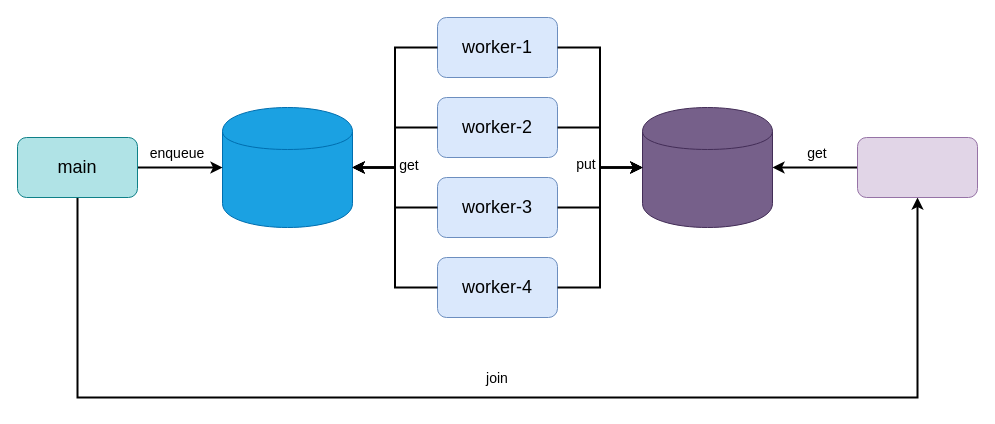
Some shapes in this 995 by 424 pixel diagram are drawn without their labels. The shapes that lost their labels are listed below. From the top down, each one's centre as x and y in pixels, then its label:
At (287,167): "Tasks Queue".
At (707,167): "Results Queue".
At (917,167): "results writer".
